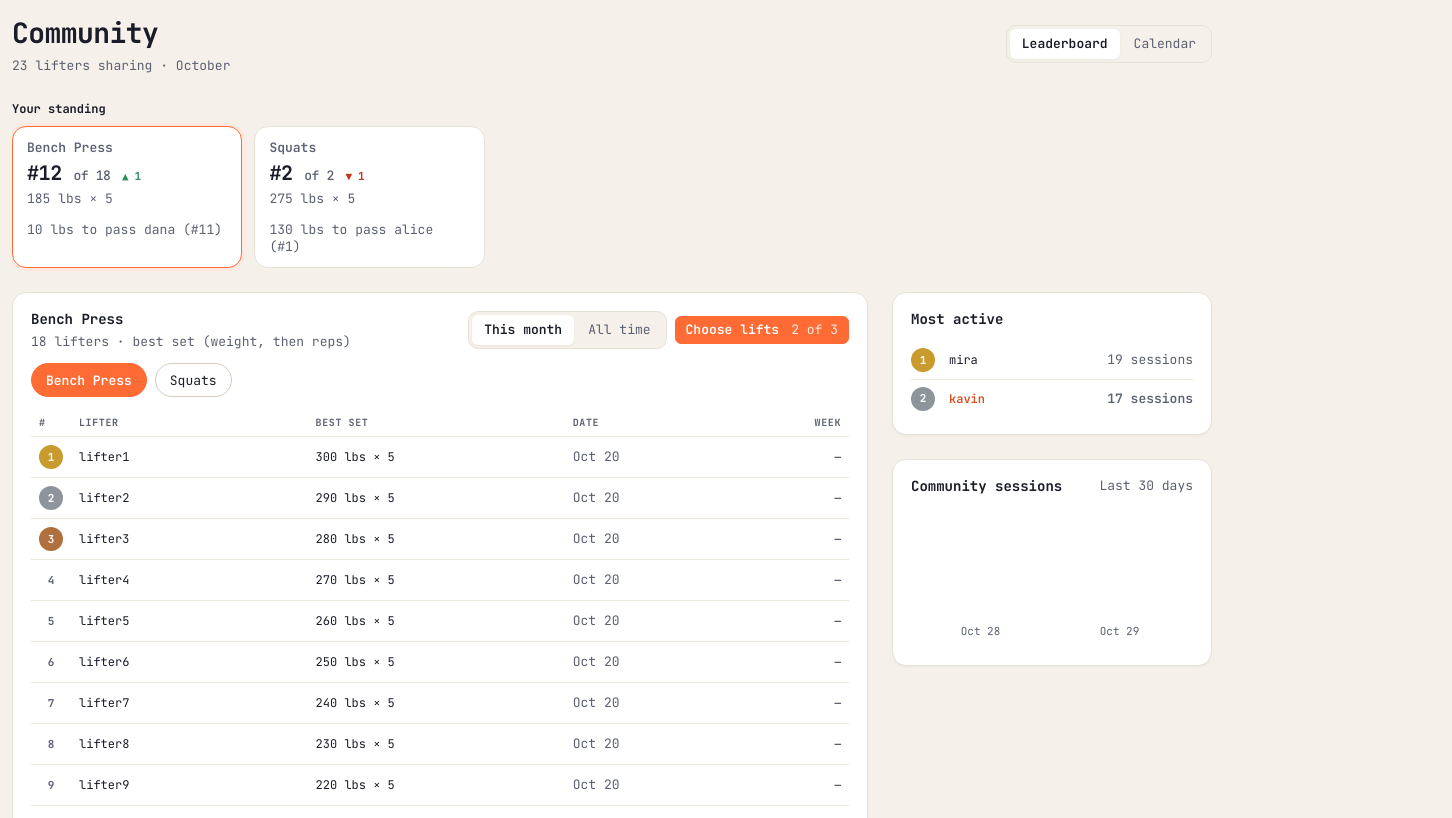
Community — header › shows the sharing count on the leaderboard but not on the calendar
Expected: the text "23 lifters sharing · October" is shown, left=12, top=56, right=230, bottom=76
Click the button "Calendar": (1165, 44) left=1122, top=29, right=1208, bottom=59
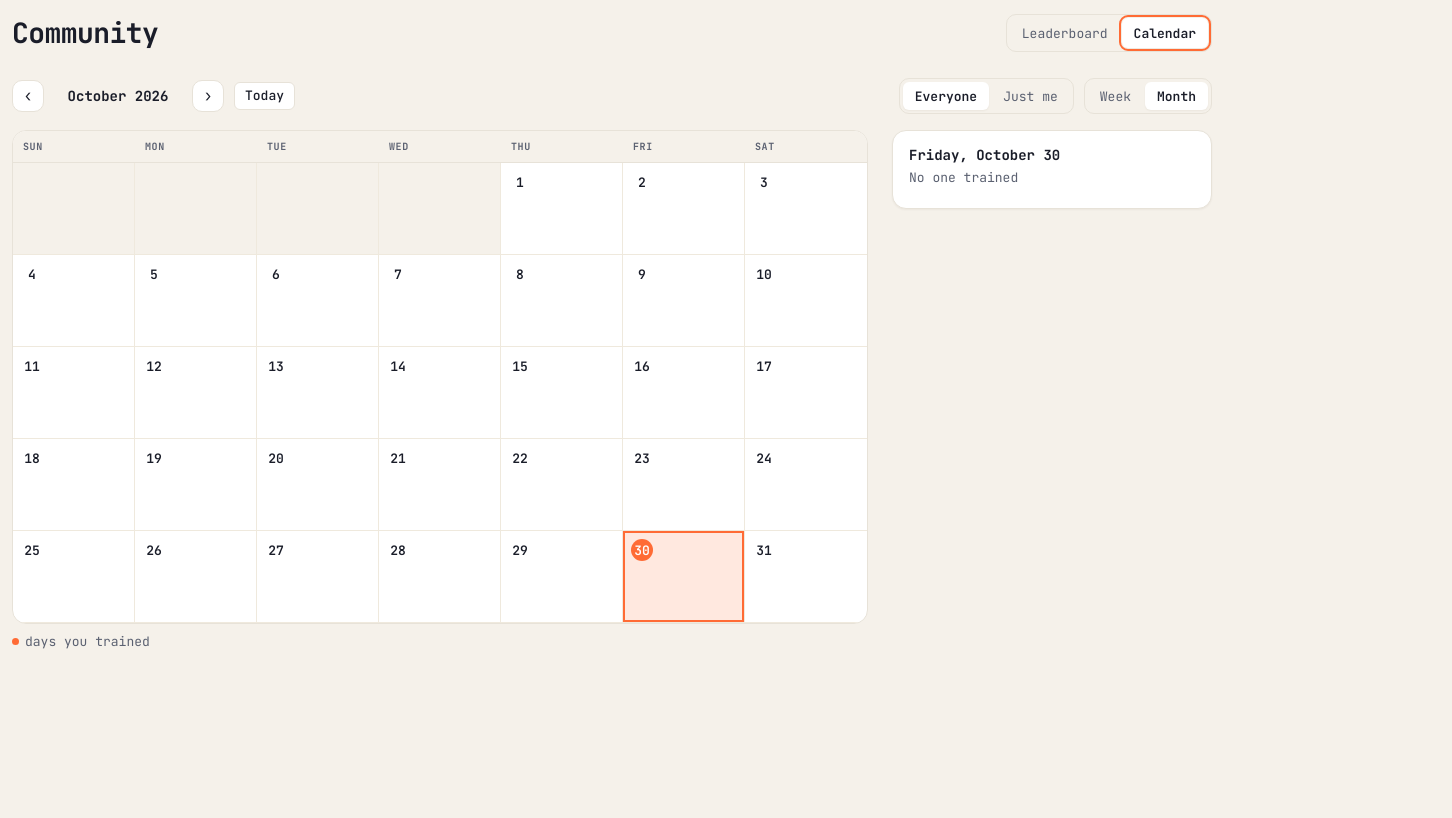
Result: the text "23 lifters sharing" is gone
